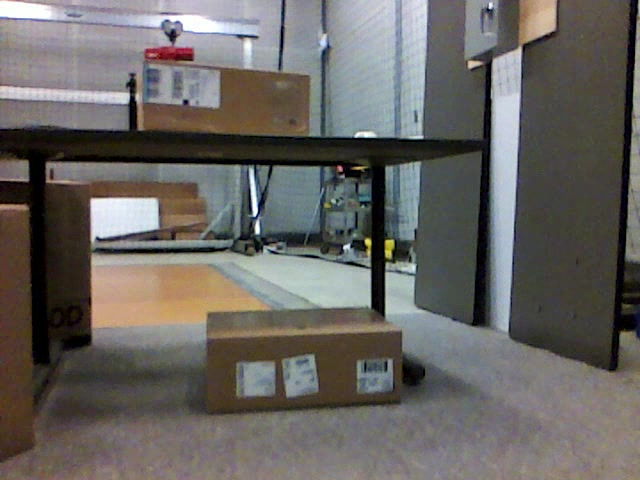box: (207, 303, 401, 405), (138, 61, 313, 137), (1, 205, 34, 464)
